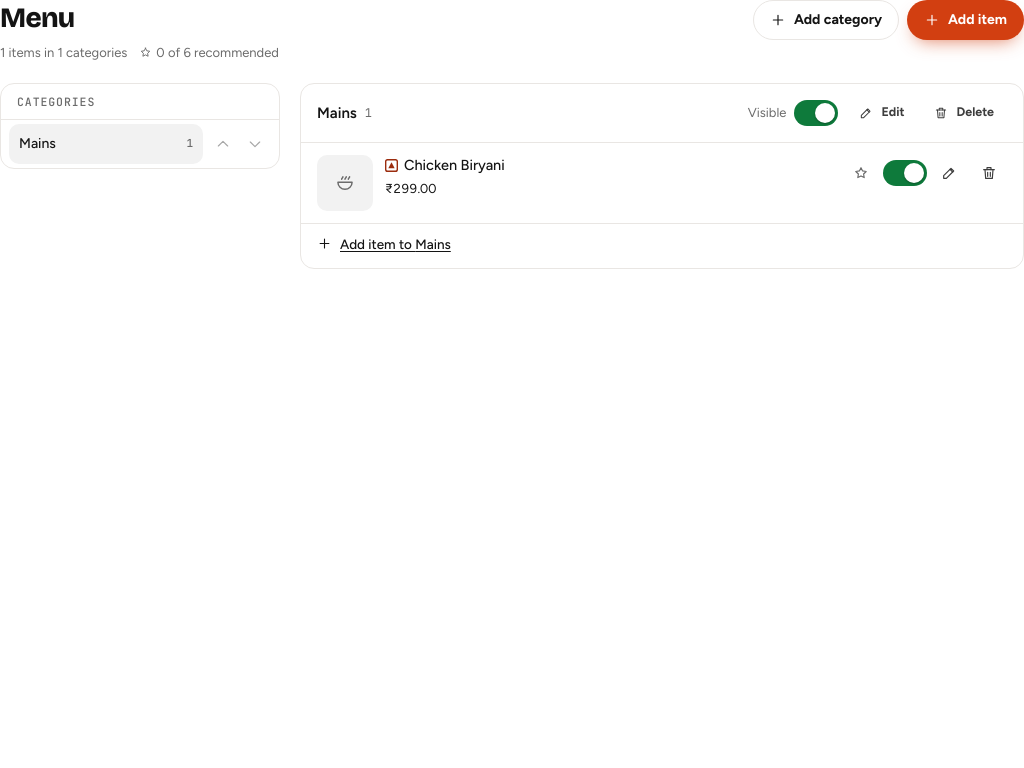
Scenario: MenuPage › explains why a category cannot be deleted while it has items
The width and height of the screenshot is (1024, 768).
What coordinates should you click on to do the following:
click the button with aria-label "delete category mains"
I would click on:
 (964, 113)
Its box is [922,98,1007,128].
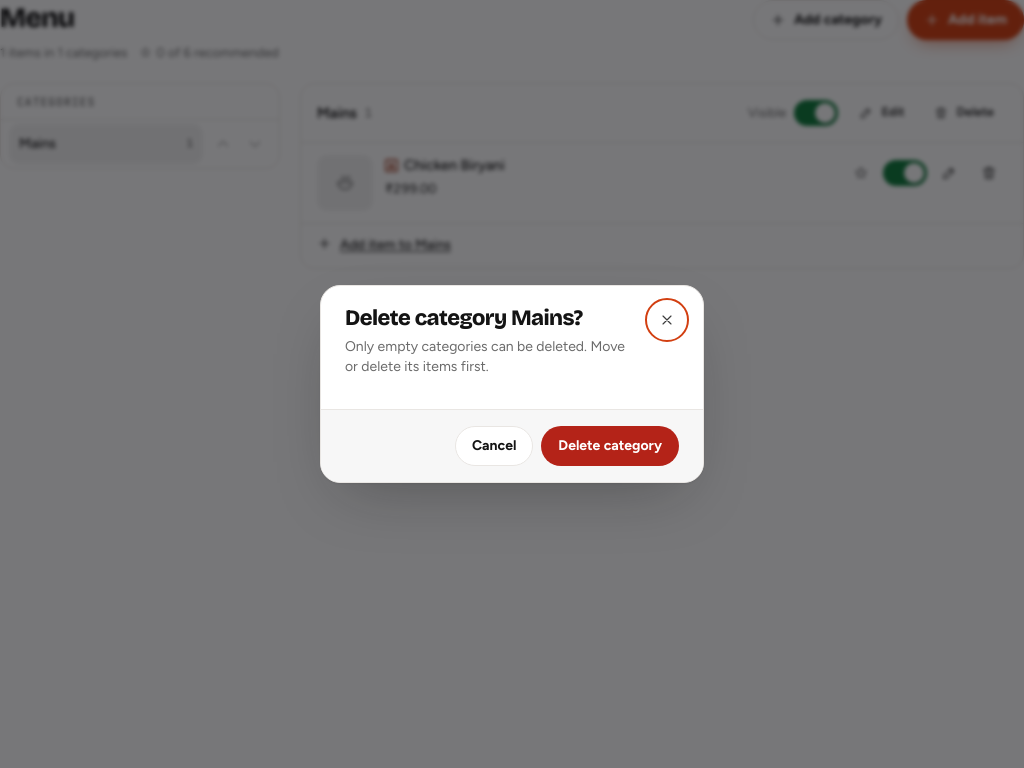
What coordinates should you click on to do the following:
click the button "Delete category"
I would click on:
 (610, 446)
Its box is [541,426,679,466].
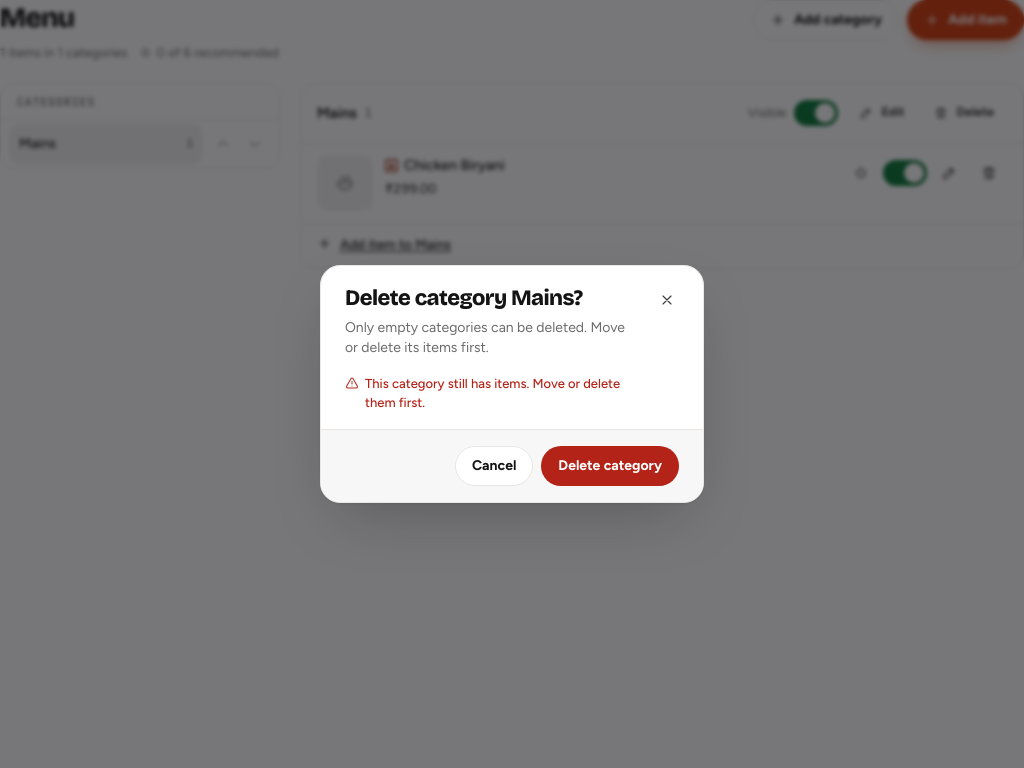
expect the text "This category still has items. Move or delete them first." is shown: met, box [365,376,620,410]
